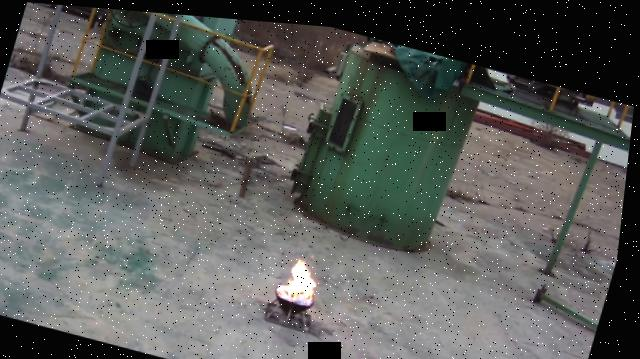fire: (288, 250, 330, 294)
